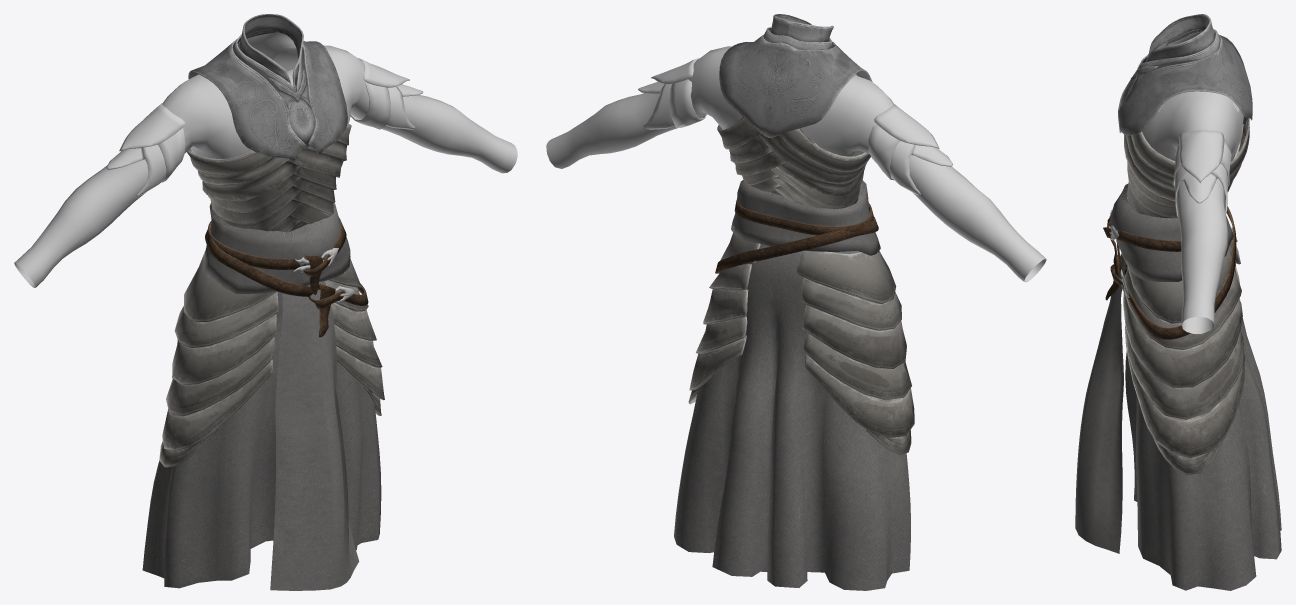
The model's file is rivendell_torso_lord3_silver.fbx.
The picture shows the model from 3 angles, left to right: view 1: azimuth 30°, elevation 25°; view 2: azimuth 150°, elevation 25°; view 3: azimuth 270°, elevation 25°; orthographic projection. The views are drawn at different scales.
Visible parts, largest first — view 1: rivendell_torso_lord3_silver.3, rivendell_torso_lord3_silver.0, rivendell_torso_lord3_silver.4, rivendell_torso_lord3_silver.2, rivendell_torso_lord3_silver.6, rivendell_torso_lord3_silver.1, rivendell_torso_lord3_silver.5; view 2: rivendell_torso_lord3_silver.0, rivendell_torso_lord3_silver.2, rivendell_torso_lord3_silver.4, rivendell_torso_lord3_silver.6, rivendell_torso_lord3_silver.3, rivendell_torso_lord3_silver.1, rivendell_torso_lord3_silver.5; view 3: rivendell_torso_lord3_silver.0, rivendell_torso_lord3_silver.2, rivendell_torso_lord3_silver.3, rivendell_torso_lord3_silver.4, rivendell_torso_lord3_silver.6, rivendell_torso_lord3_silver.1, rivendell_torso_lord3_silver.5.
Boxes of the visible parts, box(x1,y1,x2,y2) form: rivendell_torso_lord3_silver.3: box(204, 202, 368, 590); rivendell_torso_lord3_silver.0: box(142, 291, 381, 588); rivendell_torso_lord3_silver.4: box(14, 32, 517, 287); rivendell_torso_lord3_silver.2: box(159, 250, 384, 467); rivendell_torso_lord3_silver.6: box(188, 14, 347, 161); rivendell_torso_lord3_silver.1: box(187, 123, 351, 232); rivendell_torso_lord3_silver.5: box(106, 58, 423, 197); rivendell_torso_lord3_silver.0: box(674, 244, 910, 590); rivendell_torso_lord3_silver.2: box(688, 233, 914, 454); rivendell_torso_lord3_silver.4: box(546, 46, 1046, 282); rivendell_torso_lord3_silver.6: box(719, 14, 872, 137); rivendell_torso_lord3_silver.3: box(715, 180, 880, 273); rivendell_torso_lord3_silver.1: box(717, 117, 870, 227); rivendell_torso_lord3_silver.5: box(638, 58, 952, 195); rivendell_torso_lord3_silver.0: box(1125, 244, 1281, 590); rivendell_torso_lord3_silver.2: box(1123, 226, 1244, 474); rivendell_torso_lord3_silver.3: box(1075, 183, 1236, 553); rivendell_torso_lord3_silver.4: box(1142, 32, 1243, 333); rivendell_torso_lord3_silver.6: box(1118, 14, 1252, 135); rivendell_torso_lord3_silver.1: box(1124, 116, 1249, 218); rivendell_torso_lord3_silver.5: box(1172, 130, 1231, 218).
Bounding box in the file's own units: 1.38 × 0.5129 × 1.44.
